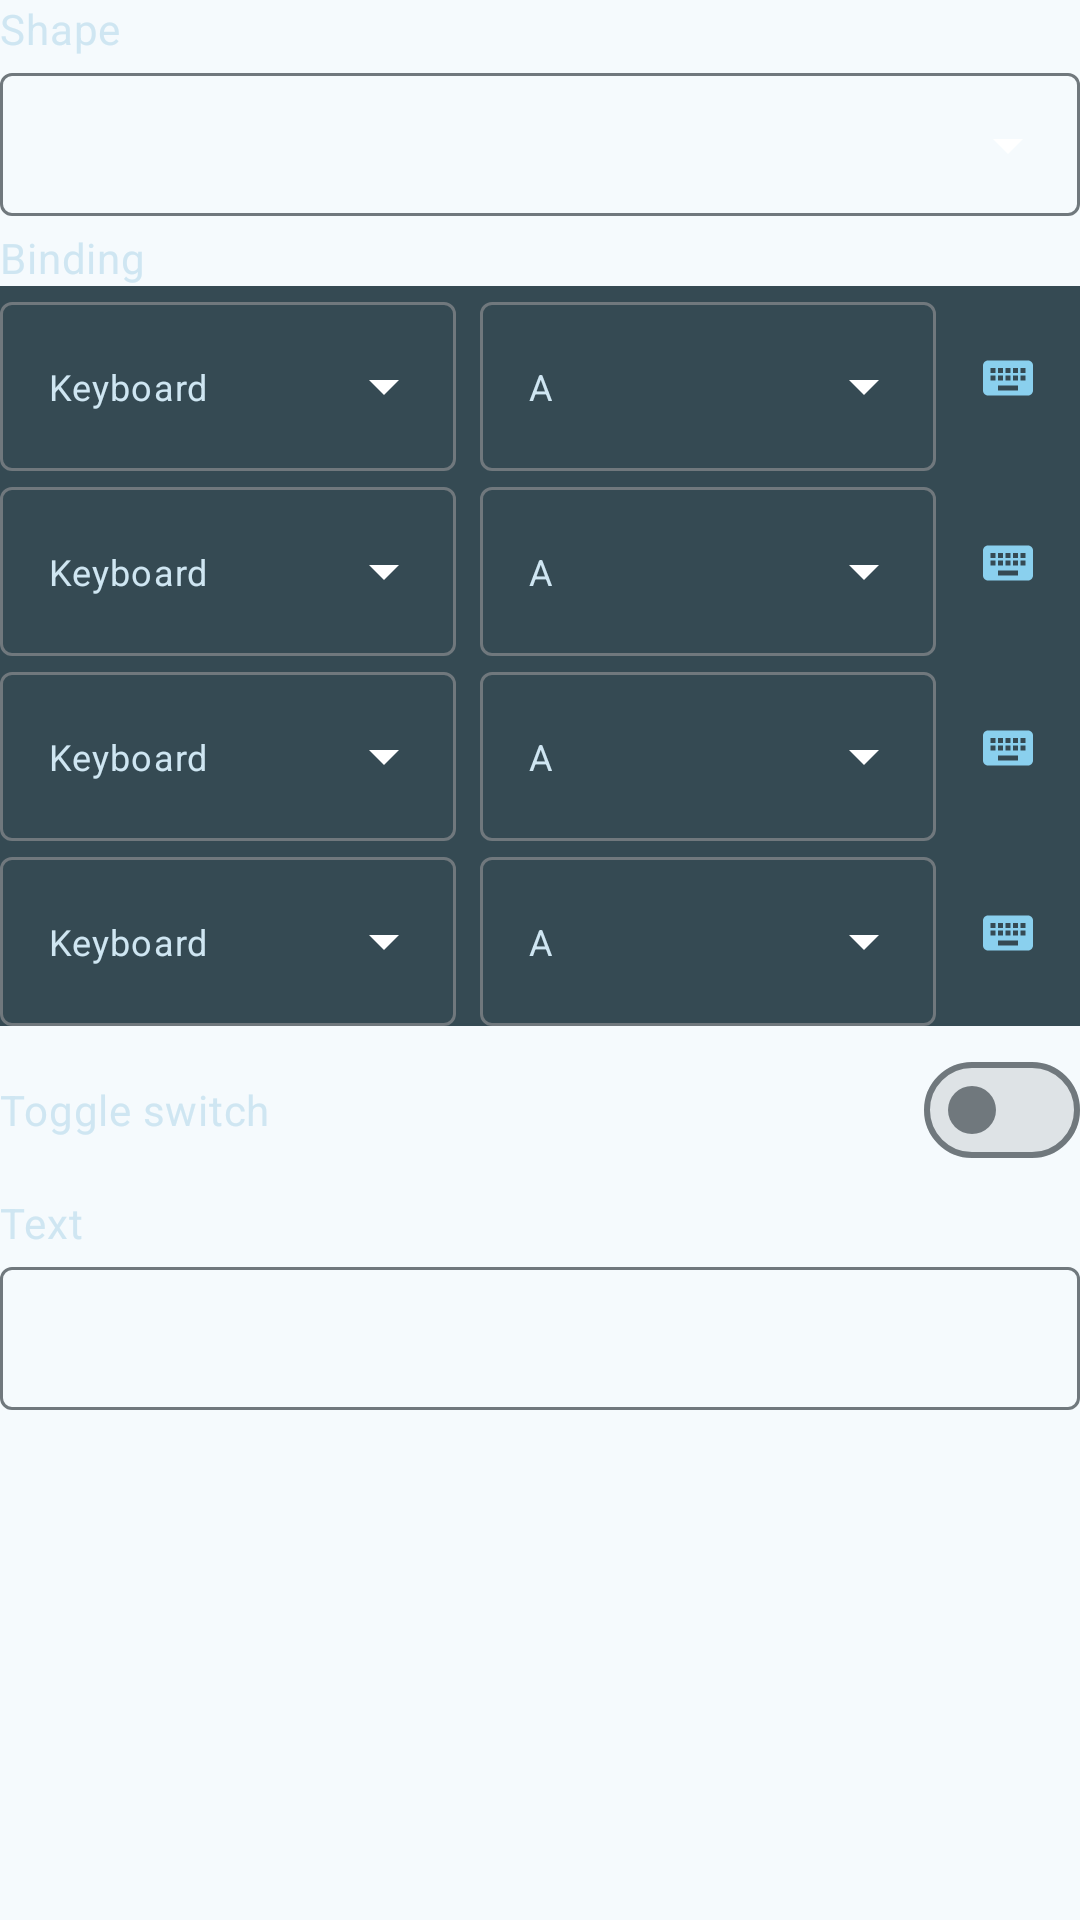

Where icons sit on this 1080px×1920px app screen, as [x1=x1, y1=y1, x2=x2, y2=y2]:
keyboard: [x1=983, y1=360, x2=1033, y2=396], [x1=983, y1=545, x2=1033, y2=581], [x1=983, y1=730, x2=1033, y2=766], [x1=983, y1=915, x2=1033, y2=951]
